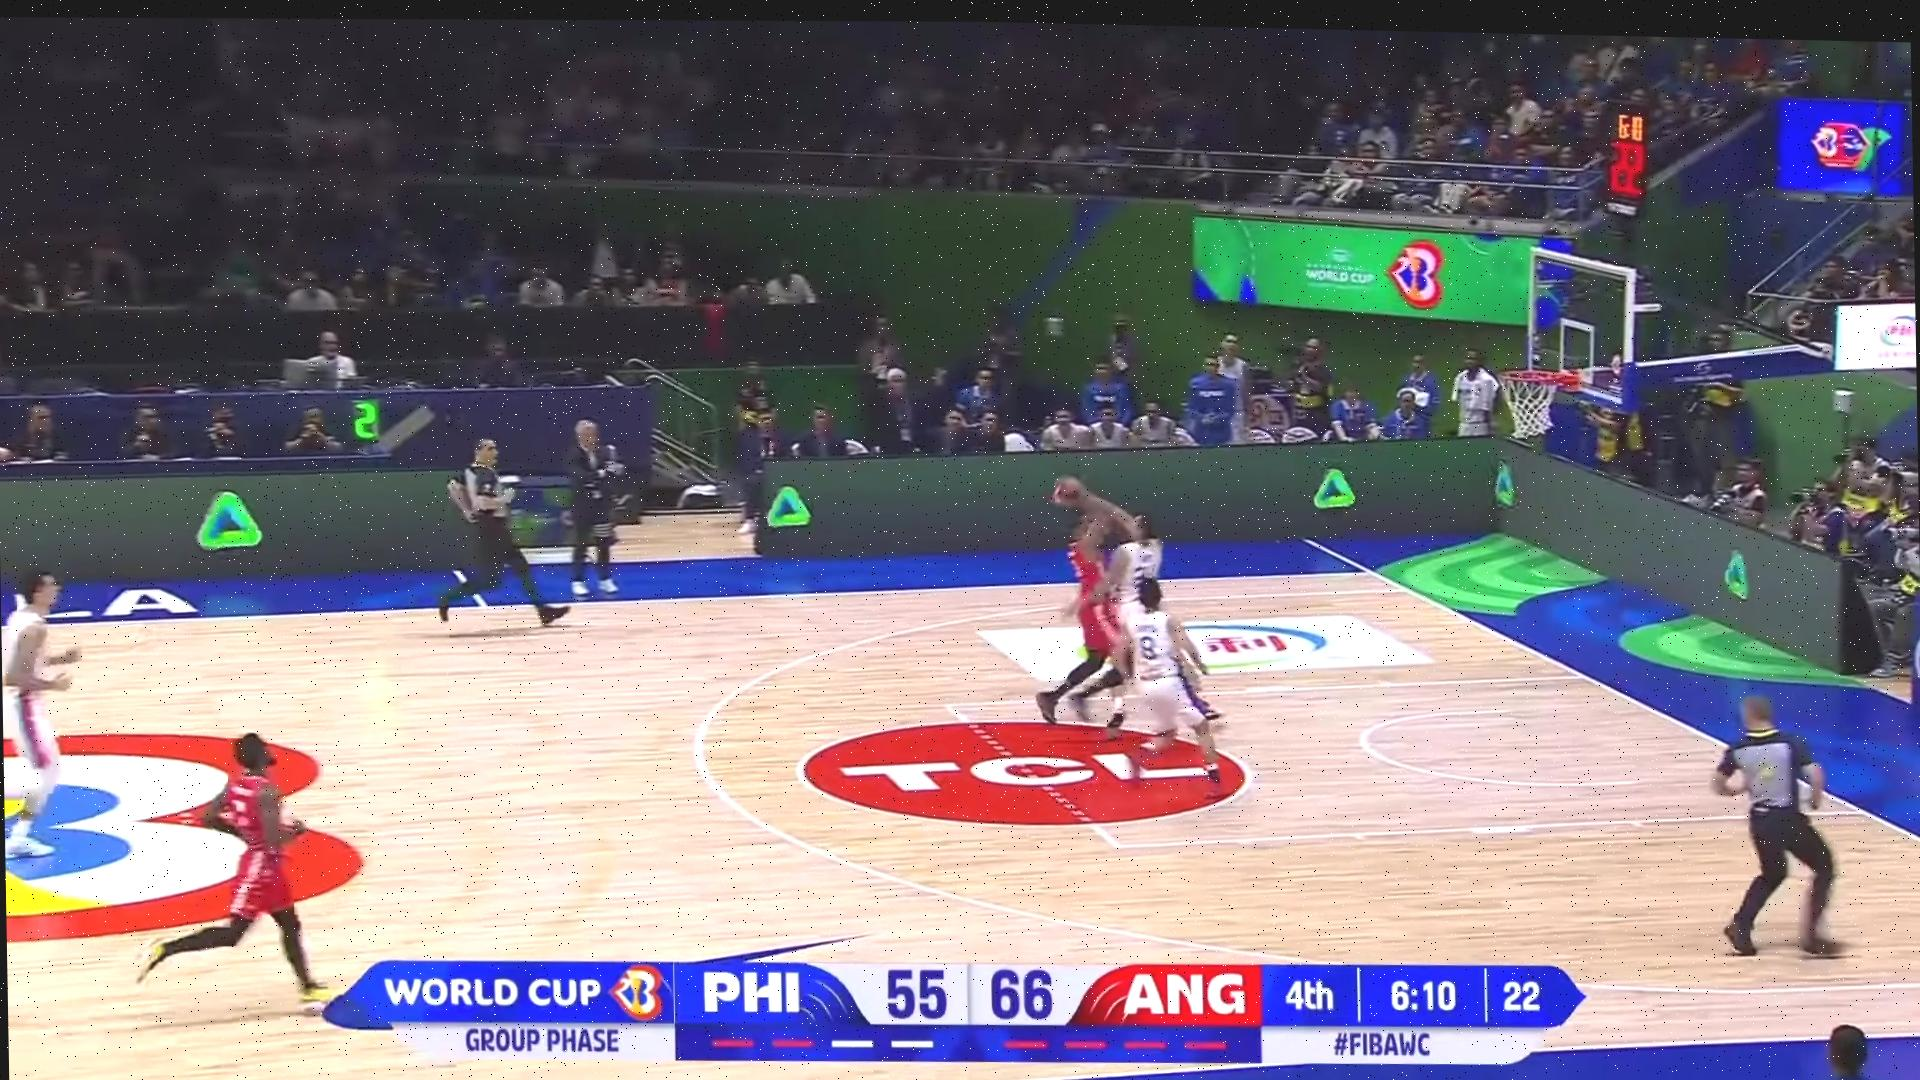foul: (1011, 451, 1220, 773)
